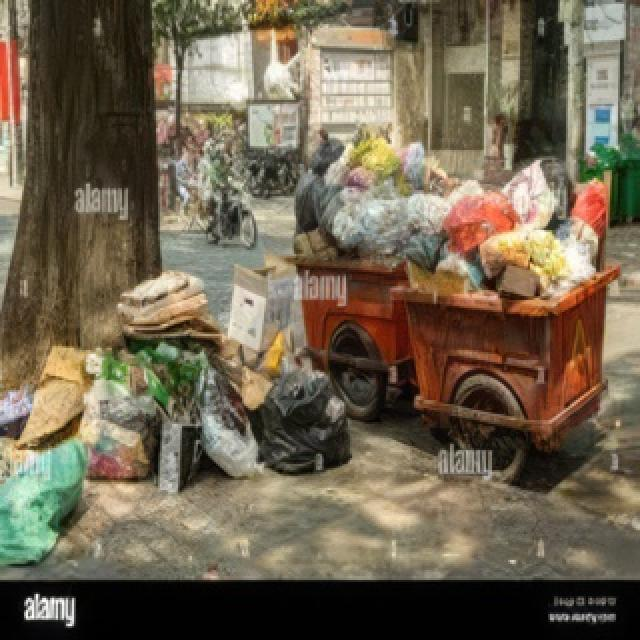high trash: (0, 259, 350, 564), (295, 136, 609, 297)
